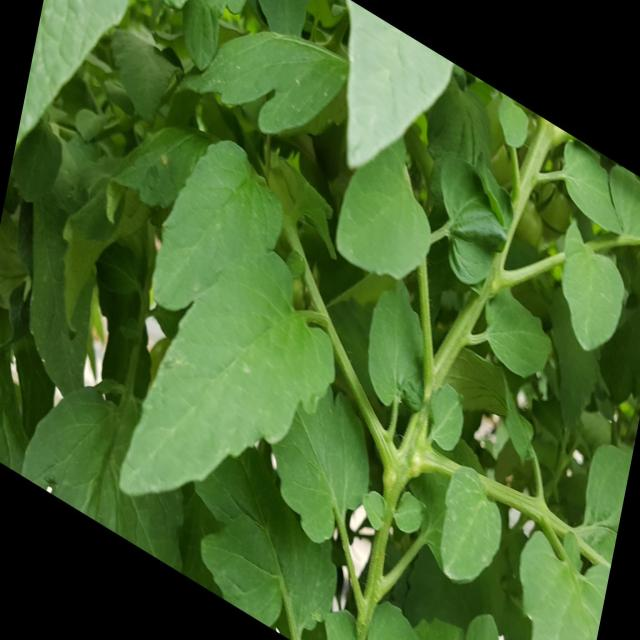Healthy Leaf: (125, 249, 331, 511), (139, 146, 289, 319), (182, 14, 355, 150), (322, 140, 447, 284), (552, 216, 631, 370), (444, 447, 506, 595), (362, 294, 442, 408)
